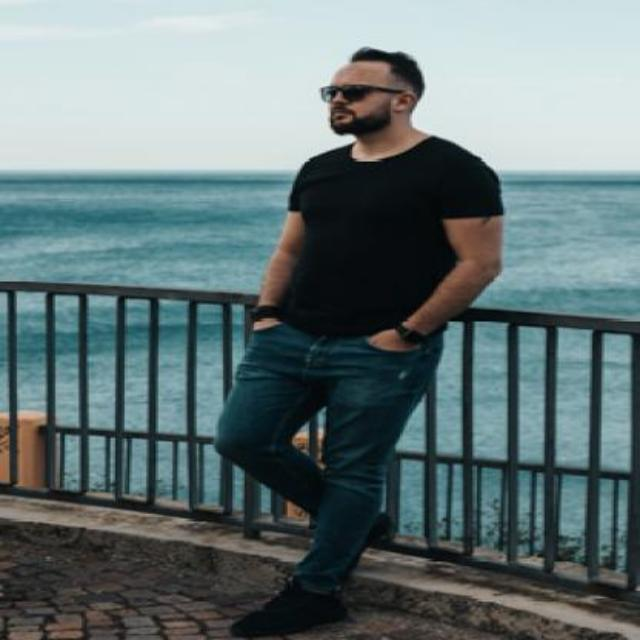glasses: (319, 85, 403, 98)
